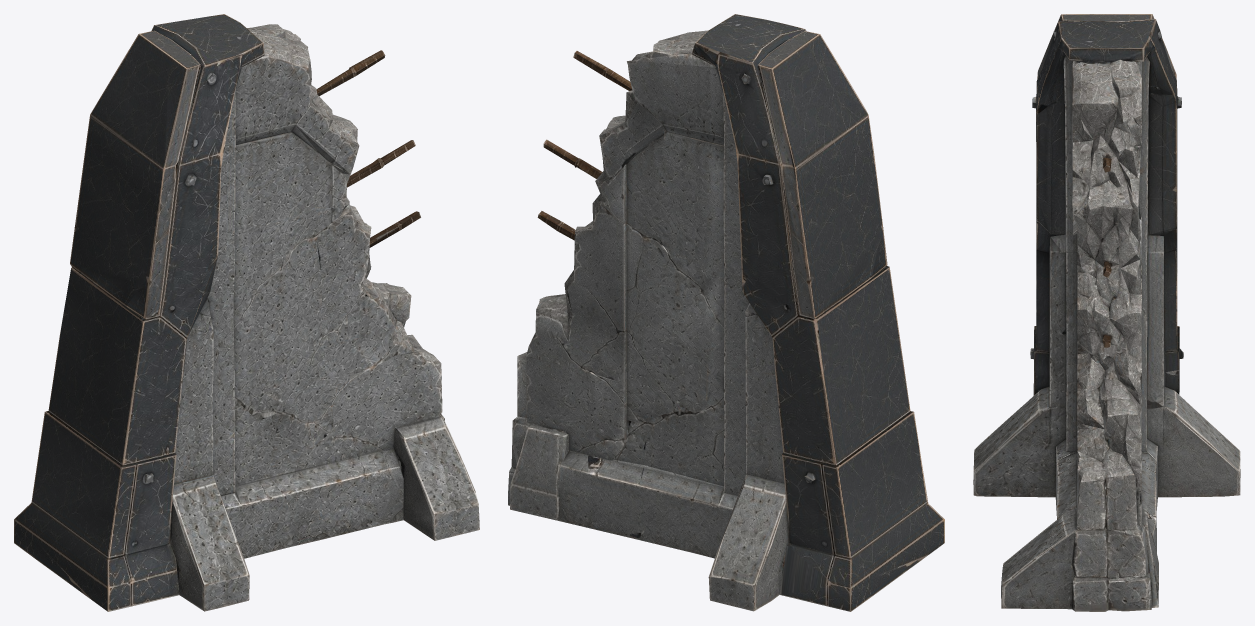
File: shared_rubble_kit__wall_stub_medium.glb
3 views of the same model, side by side, from view 1: azimuth 30°, elevation 25°; view 2: azimuth 150°, elevation 25°; view 3: azimuth 270°, elevation 25° (orthographic). The views are drawn at different scales.
Parts seen in each view (by area): view 1: mesh_node; view 2: mesh_node; view 3: mesh_node.
Boxes of the visible parts, left/top/right/bottom form: mesh_node: left=14, top=14, right=479, bottom=611; mesh_node: left=508, top=14, right=944, bottom=611; mesh_node: left=973, top=14, right=1240, bottom=611.
Size of the model in its own units: 3.27 by 4.27 by 2.16.
1 material, 1 textured.
